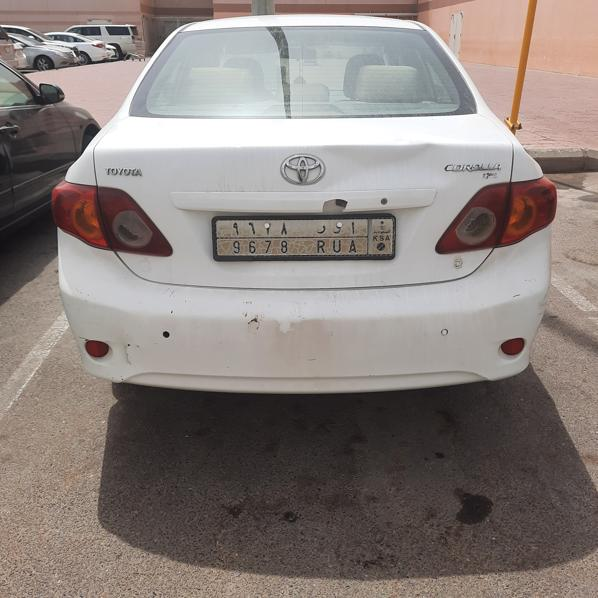numberplate: (211, 215, 397, 258)
